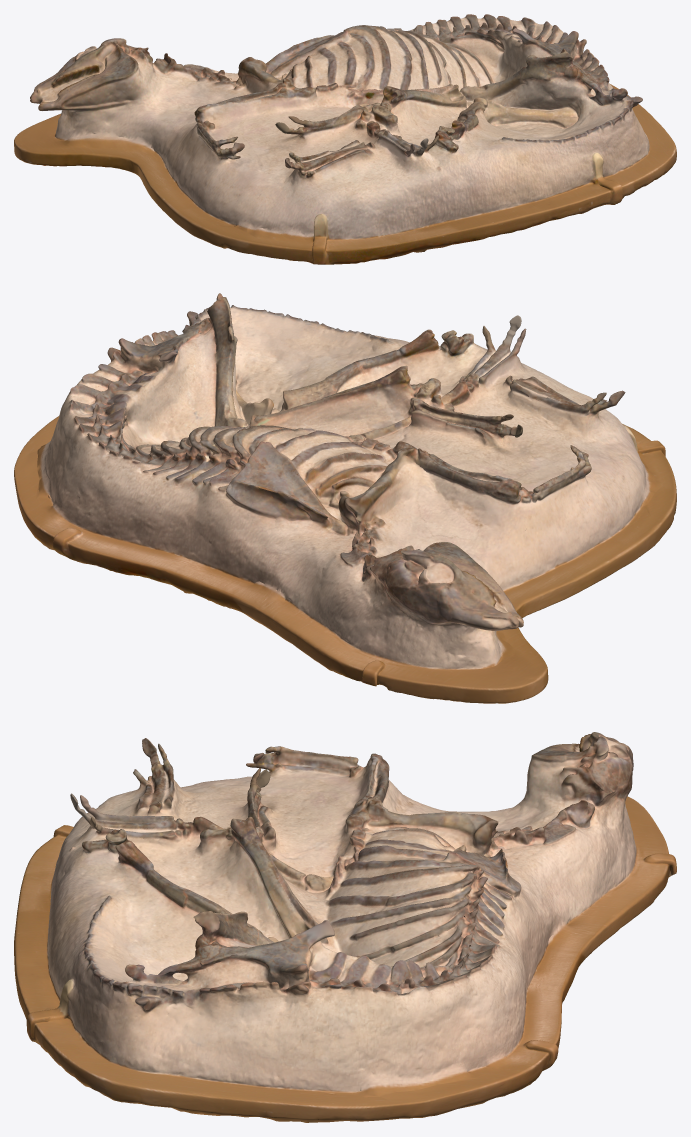
Rendered from primeval_horse_nhmw-geo-199500770001.glb.
3 renders of one model, top to bottom at view 1: azimuth 30°, elevation 25°; view 2: azimuth 150°, elevation 25°; view 3: azimuth 270°, elevation 25°, orthographic. The views are drawn at different scales.
Parts seen in each view (by area): view 1: Object_2, Object_3; view 2: Object_2, Object_3; view 3: Object_2, Object_3.
Boxes of the visible parts, left/top/right/bottom form: Object_2: left=14, top=14, right=676, bottom=264; Object_3: left=30, top=14, right=671, bottom=261; Object_2: left=14, top=293, right=676, bottom=703; Object_3: left=15, top=297, right=676, bottom=672; Object_2: left=14, top=738, right=676, bottom=1122; Object_3: left=14, top=732, right=645, bottom=1119.
Bounding box in the file's own units: 4.6 × 1.06 × 3.92.
1 material, 1 textured.
